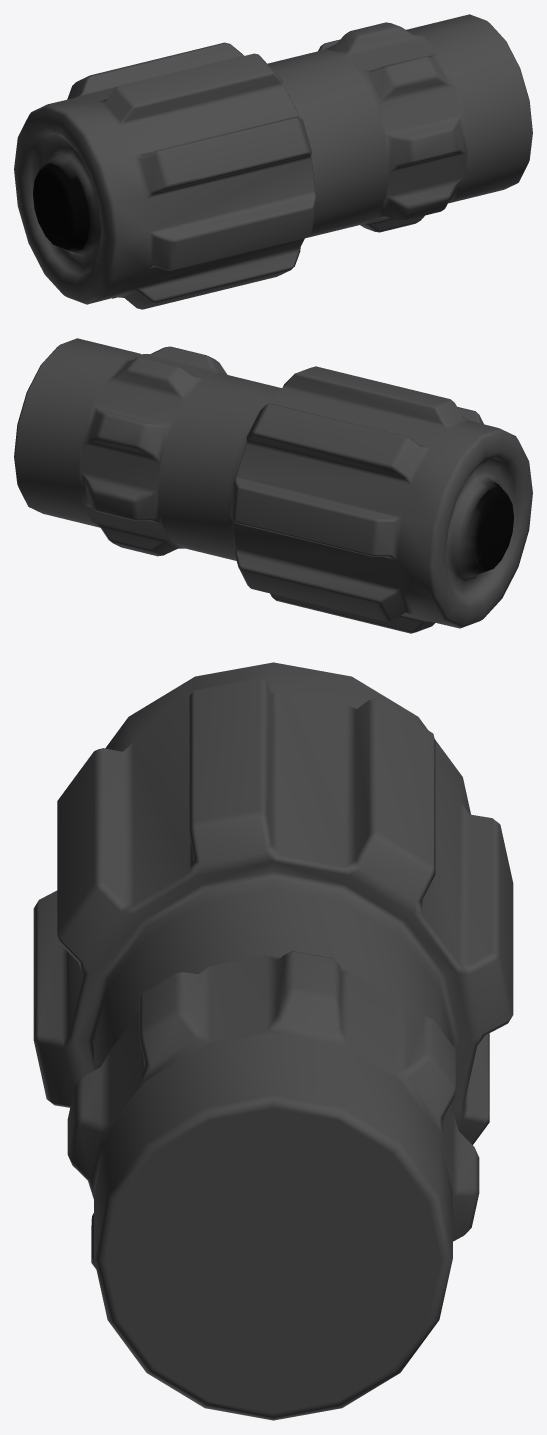
Rendered from SM_Dallas_AT_Bullet.fbx.
The picture shows the model from 3 angles, top to bottom: view 1: azimuth 30°, elevation 25°; view 2: azimuth 150°, elevation 25°; view 3: azimuth 270°, elevation 25°; orthographic projection. The views are drawn at different scales.
Parts seen in each view (by area): view 1: Bullet; view 2: Bullet; view 3: Bullet.
Part boxes in pixels (box(x1,y1,x2,y2)): Bullet: box(14, 14, 532, 309); Bullet: box(14, 338, 532, 633); Bullet: box(33, 662, 513, 1420).
Size of the model in its own units: 5.04 by 2.39 by 2.39.
1 material, 1 textured.
